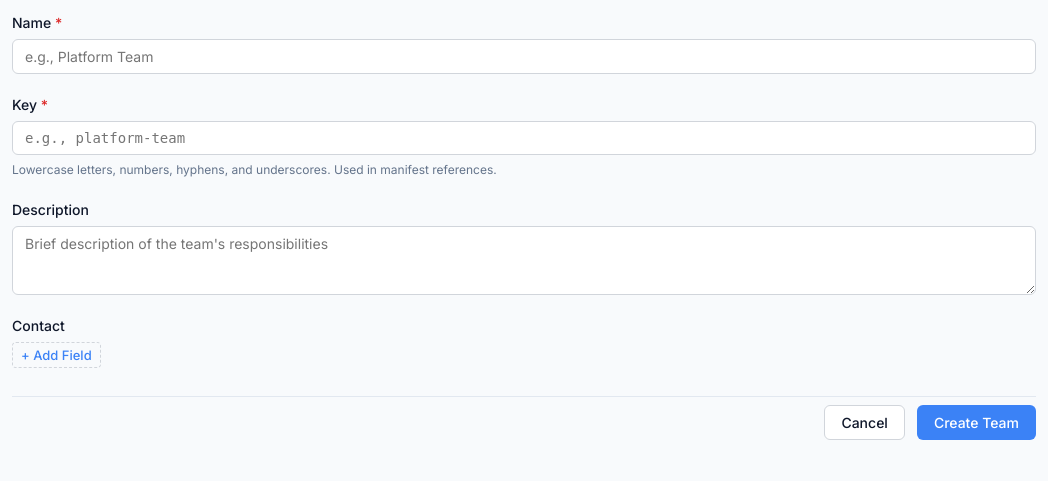
TeamForm › validates required name field
Click the button "Create Team" at [976, 422], box x1=917 y1=405 x2=1036 y2=440
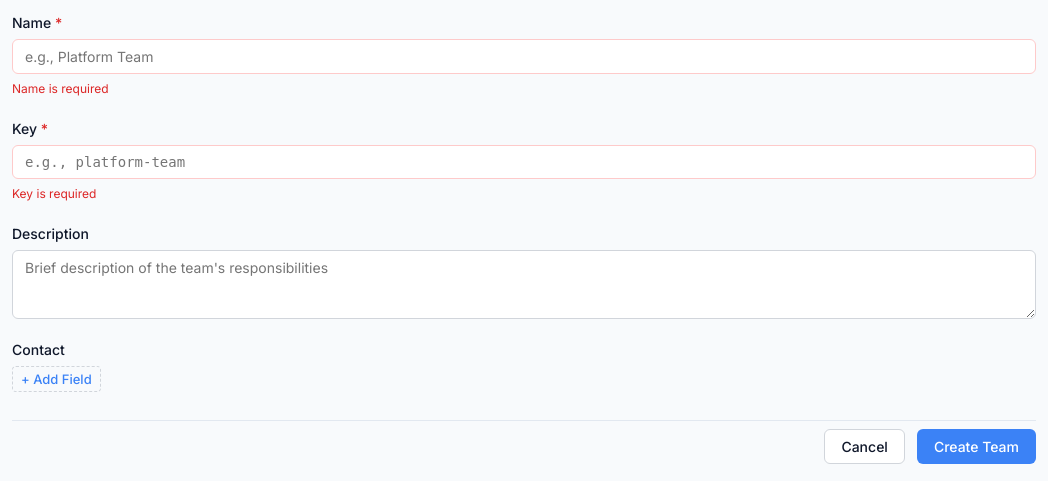
Result: the text "Name is required" is shown at x1=12 y1=81 x2=109 y2=96
